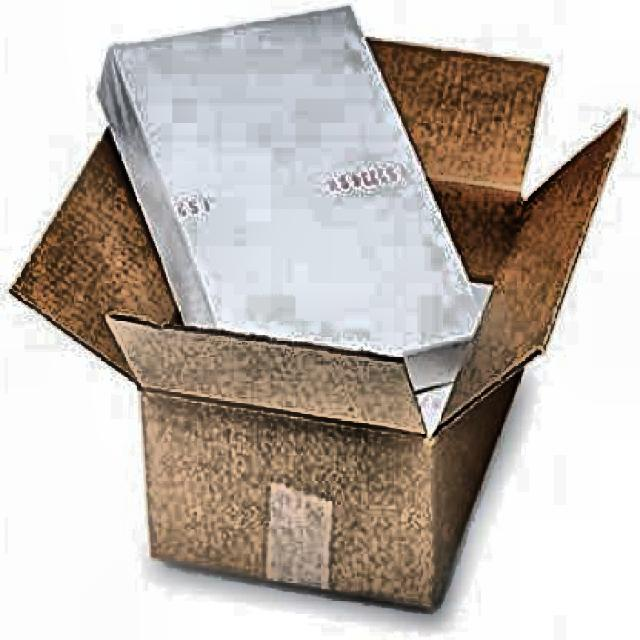Cardbox: (20, 2, 640, 628)
